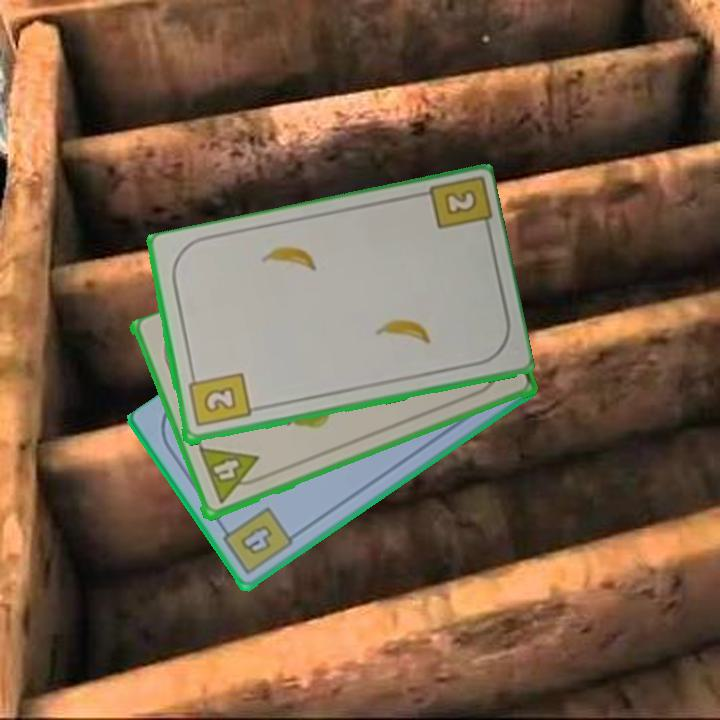2b: (184, 369, 253, 430), (440, 185, 480, 219)
4b: (216, 503, 296, 578)
4p: (196, 444, 267, 508)
